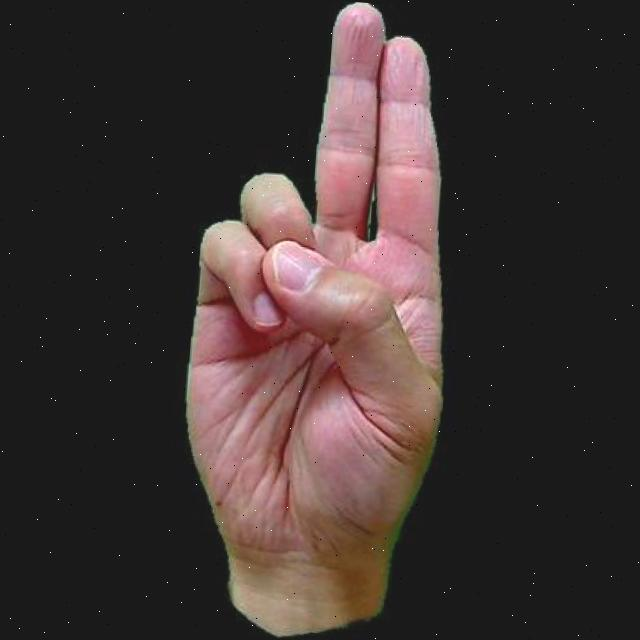u: (154, 0, 481, 640)
